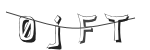0: (17, 14, 37, 44)
F: (75, 11, 98, 45)
T: (104, 11, 131, 43)
j: (47, 12, 64, 50)
